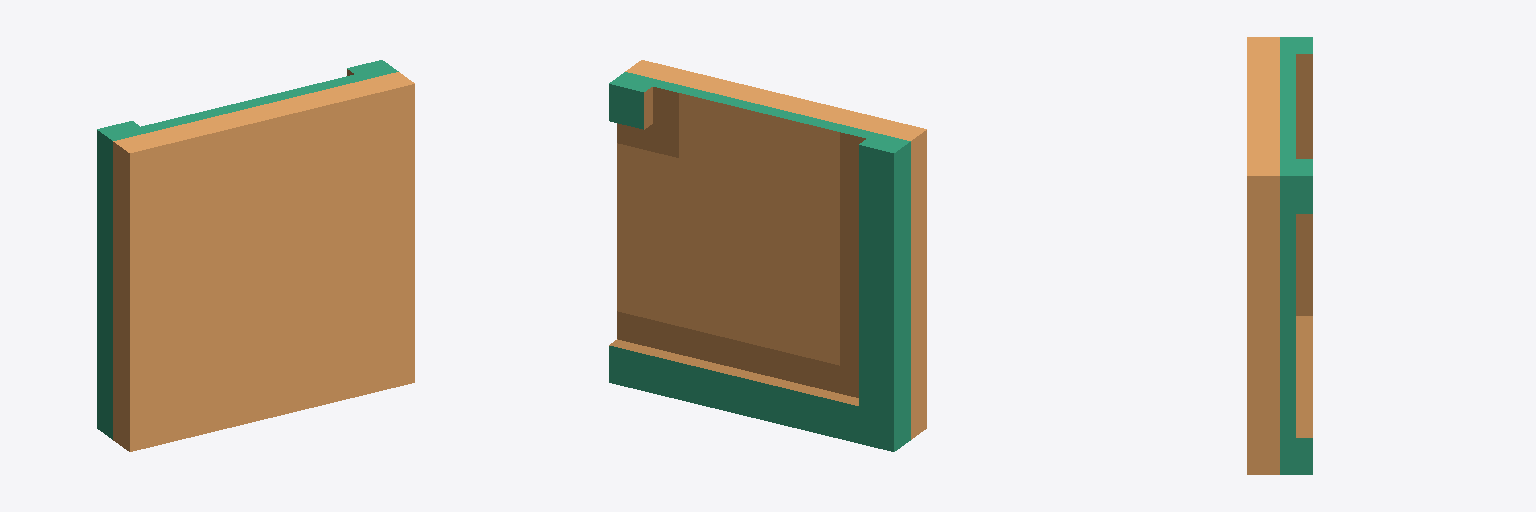
Rendered from tile_cornerSquare.obj.
3 renders of one model, left to right at view 1: azimuth 30°, elevation 25°; view 2: azimuth 150°, elevation 25°; view 3: azimuth 270°, elevation 25°, orthographic.
Visible parts, largest first — view 1: tile_cornerSquare; view 2: tile_cornerSquare; view 3: tile_cornerSquare.
Part boxes in pixels (x1,y1,x2,y2): tile_cornerSquare: (97,60,414,451); tile_cornerSquare: (609,60,926,451); tile_cornerSquare: (1247,37,1312,474).
Size of the model in its own units: 1 by 1 by 0.2.